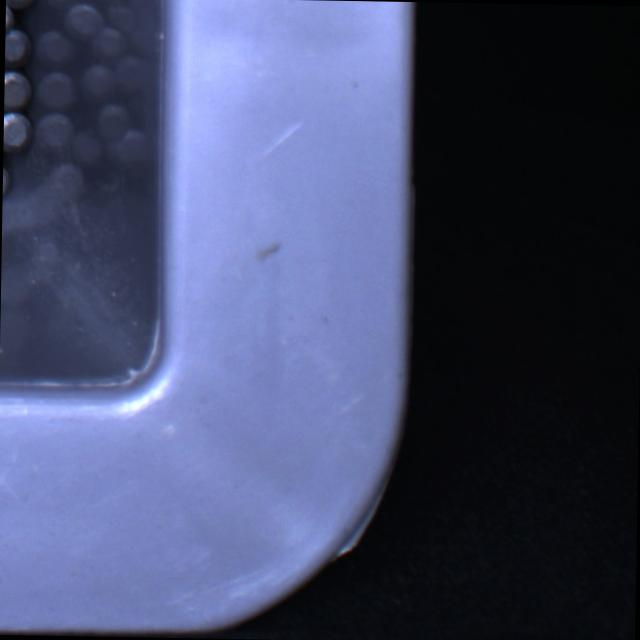tool: (3, 110, 31, 151), (3, 70, 30, 110), (4, 27, 31, 64), (5, 0, 41, 8), (4, 0, 11, 34)
